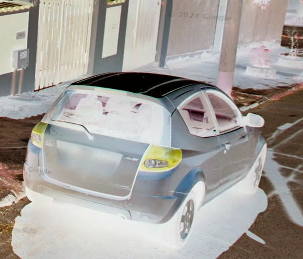car: (21, 72, 268, 245)
